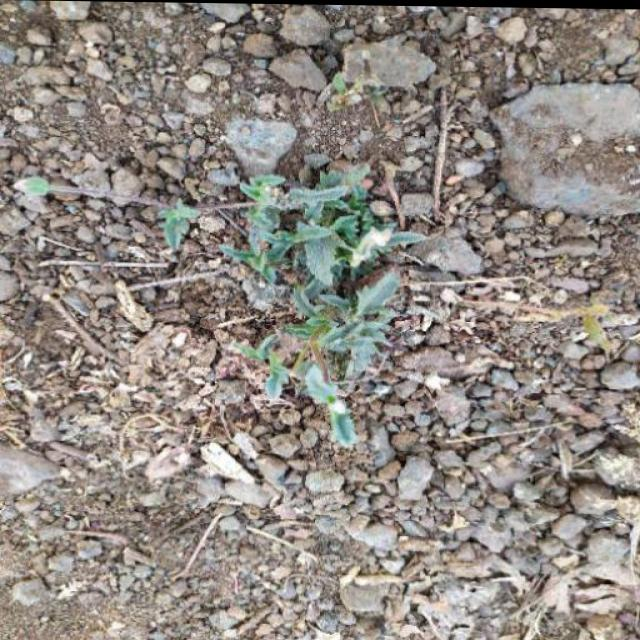weed: (145, 153, 433, 486)
